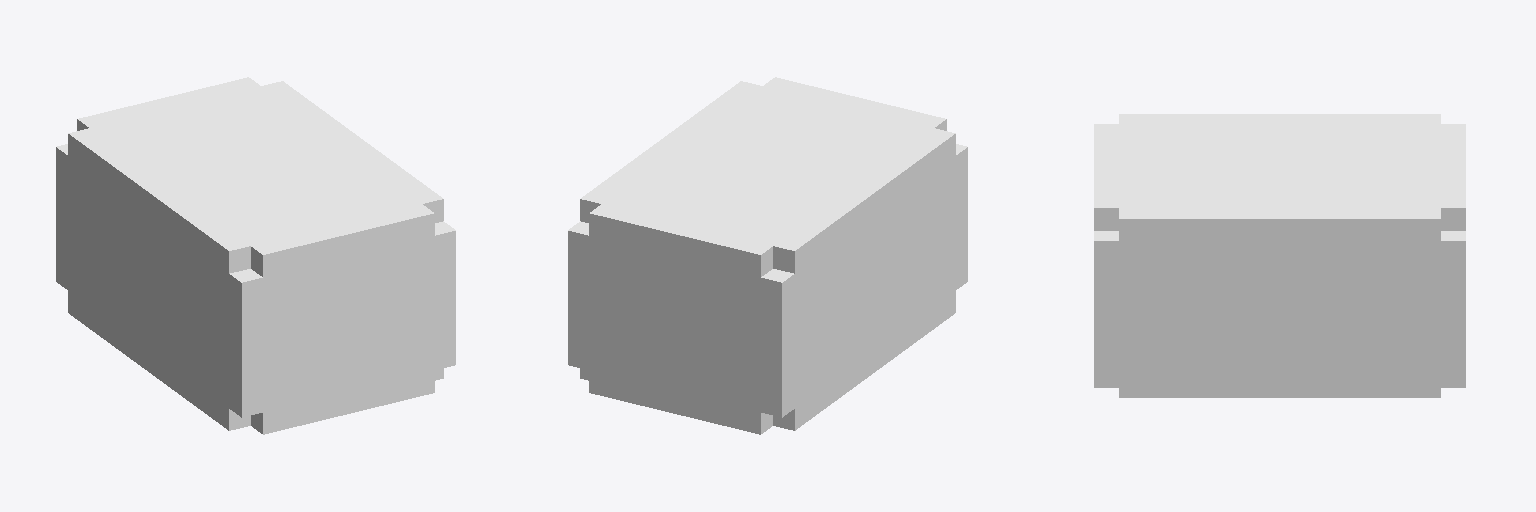
Rendered from Sofia-5.obj.
3 renders of one model, left to right at view 1: azimuth 30°, elevation 25°; view 2: azimuth 150°, elevation 25°; view 3: azimuth 270°, elevation 25°, orthographic.
Visible parts, largest first — view 1: object 1; view 2: object 1; view 3: object 1.
Part boxes in pixels (bbox=[...]): object 1: bbox=[56, 77, 455, 434]; object 1: bbox=[568, 77, 967, 434]; object 1: bbox=[1094, 114, 1465, 397].
Size of the model in its own units: 1 by 0.8 by 1.5.